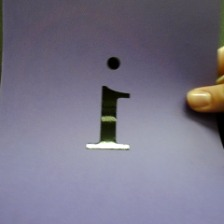violet1: (81, 54, 141, 158)
